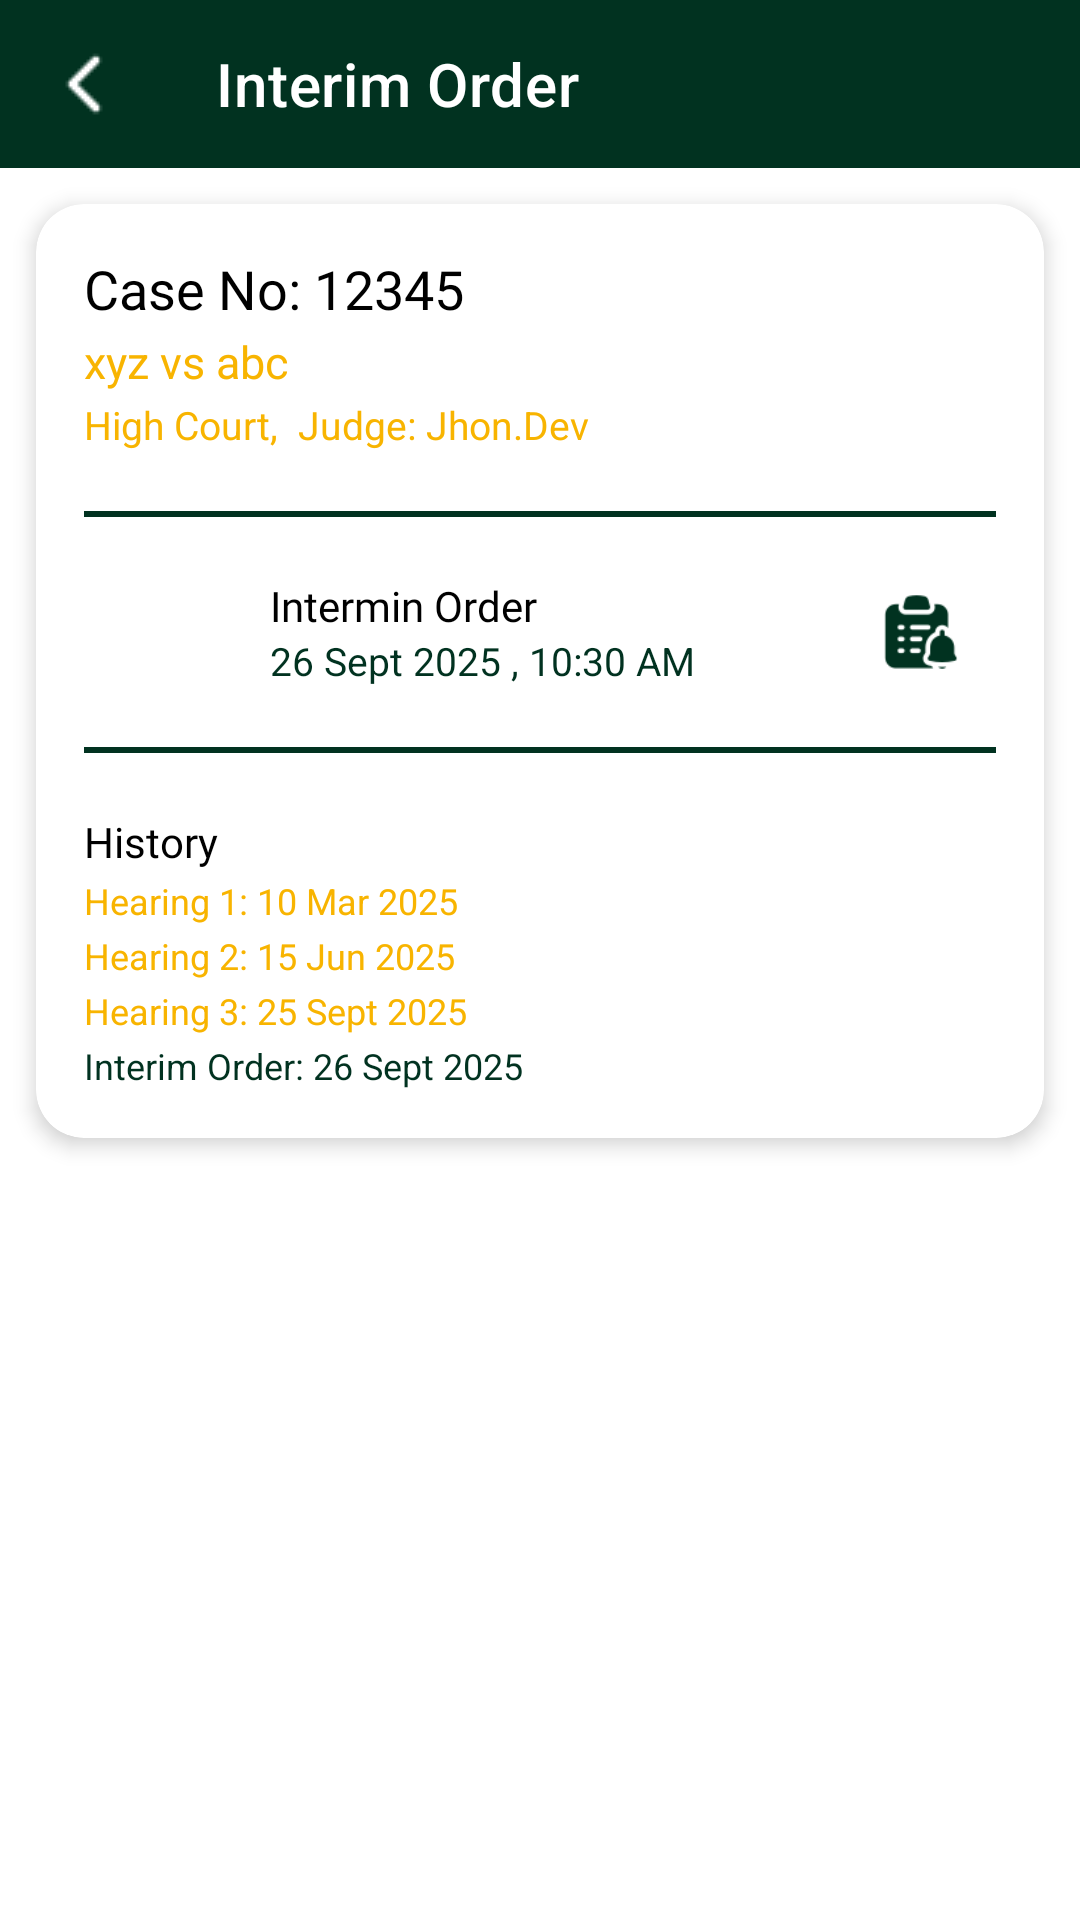

Icon bounding boxes for this 1080*1920 phone screenshot, format box(x1, y1, x2, y2):
reminder: box(884, 595, 957, 669)
